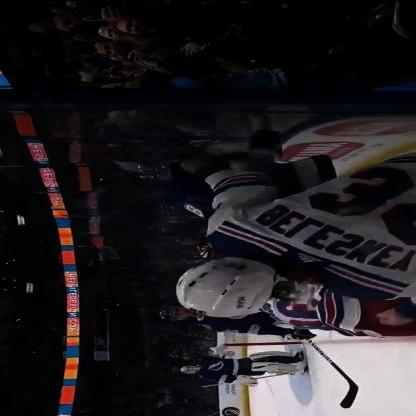non-Voilence: (166, 346, 314, 387)
voilence: (152, 151, 416, 321)
